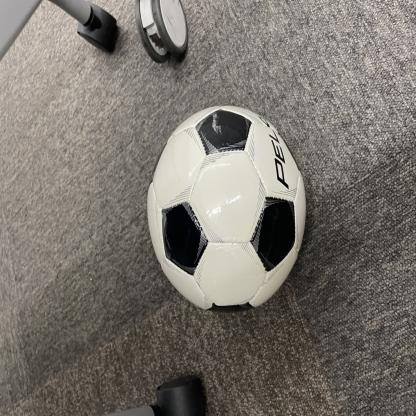ball: (149, 106, 308, 312)
